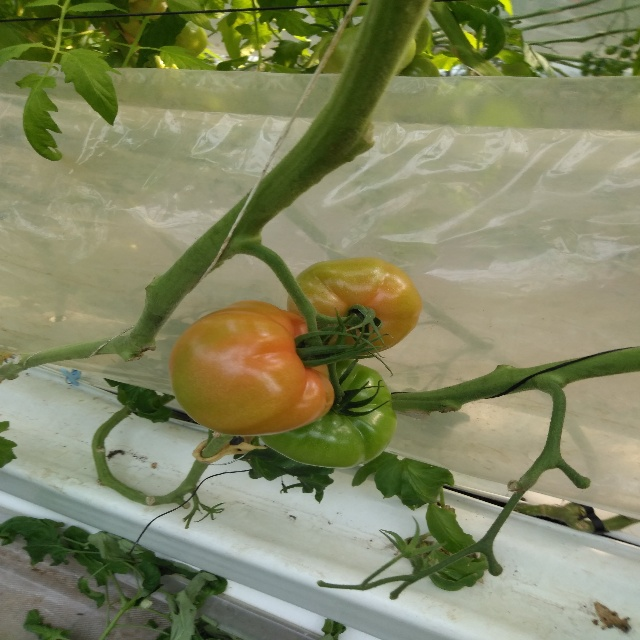b_green: (259, 358, 397, 468)
b_half_ripened: (170, 299, 334, 436), (287, 258, 424, 355)
